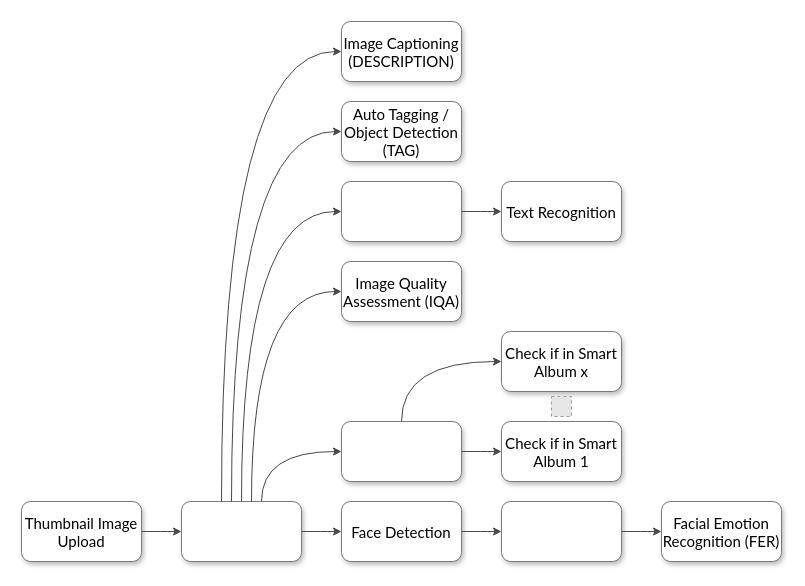
Image size: 805x586. Some labels were removed from this diagram. Grey dashed boxes stand in for pictures. The shapes that lost their labels are listed below. From the top down, each one's centre as x and y in pixels, then its label:
point 402,212: Text Detection
point 402,452: Image Feature - Calculate Inception Vector
point 242,532: Meta Info Upload
point 562,532: Face Recognition (Face Classification)
